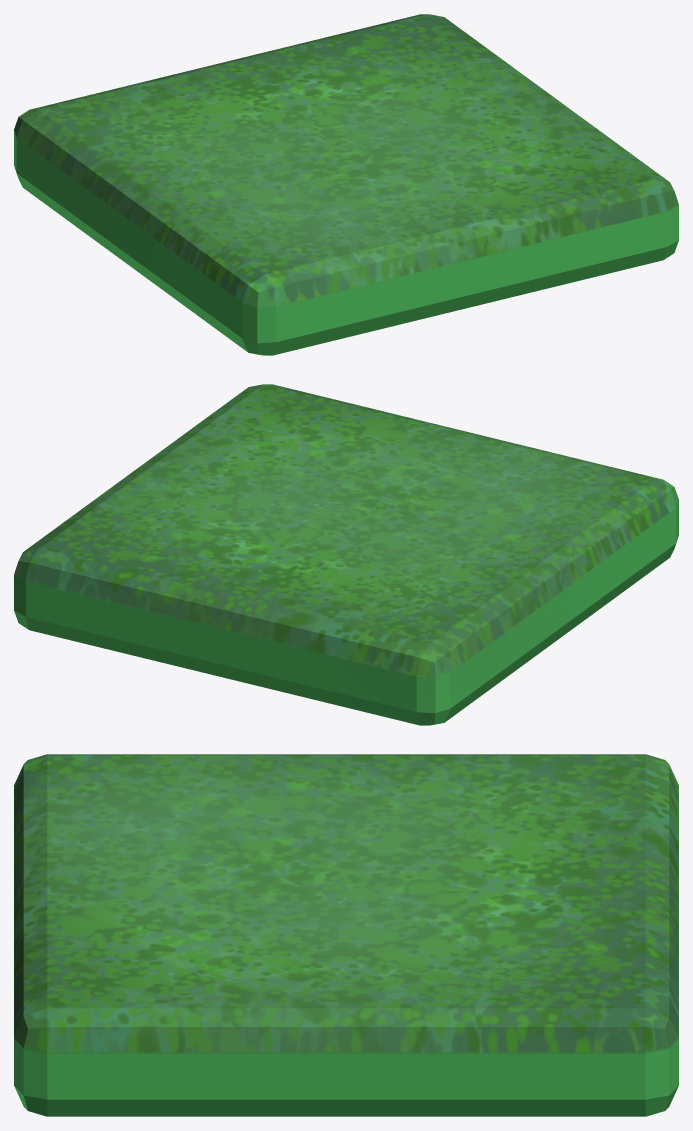
Rendered from Walkable Tile.fbx.
3 renders of one model, top to bottom at view 1: azimuth 30°, elevation 25°; view 2: azimuth 150°, elevation 25°; view 3: azimuth 270°, elevation 25°, orthographic. The views are drawn at different scales.
Parts seen in each view (by area): view 1: Walkable Tile; view 2: Walkable Tile; view 3: Walkable Tile.
Boxes of the visible parts, x1=… form: Walkable Tile: x1=14, y1=14, x2=678, y2=355; Walkable Tile: x1=14, y1=384, x2=678, y2=725; Walkable Tile: x1=14, y1=754, x2=678, y2=1116.
Size of the model in its own units: 200 by 35.66 by 200.
